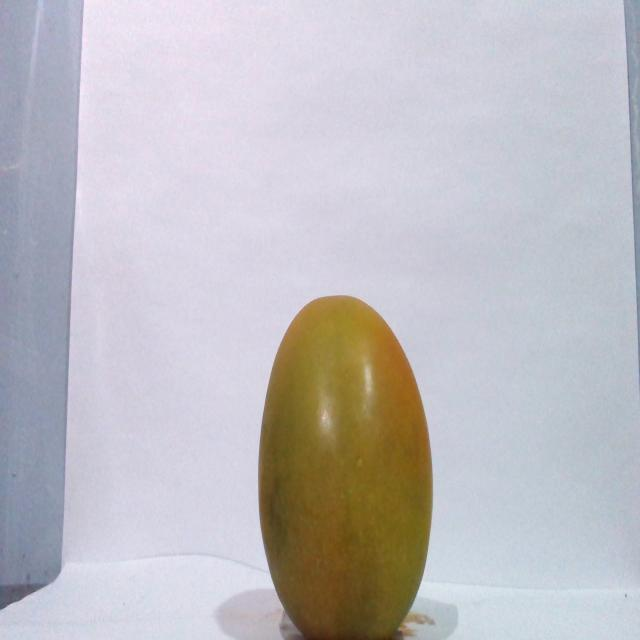Red: (256, 293, 434, 638)
